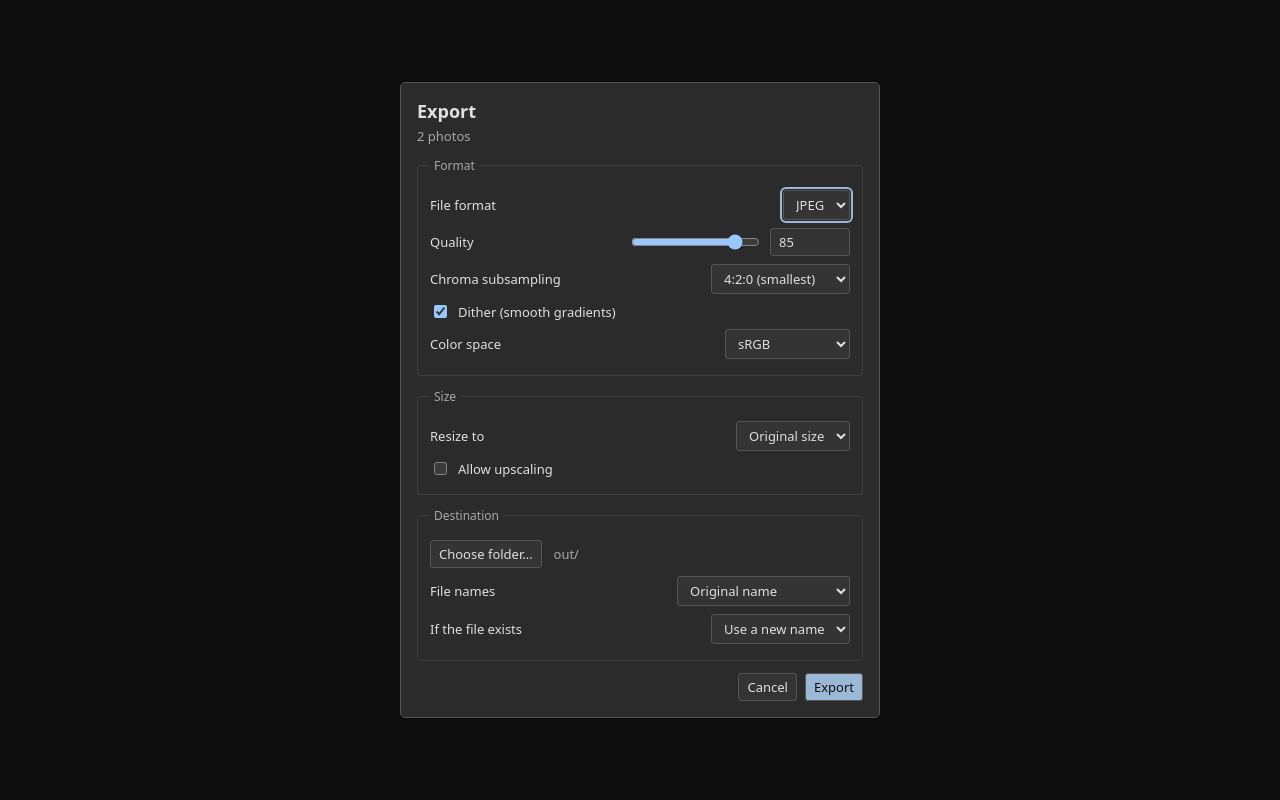
Test case: ExportDialog › disables Export for a bad quality
The width and height of the screenshot is (1280, 800).
Expected: the button "Export" is enabled, [805,673,863,701]
Replace the text in the number field named "Quality" with "150" at (810, 242), box [770,228,850,256]
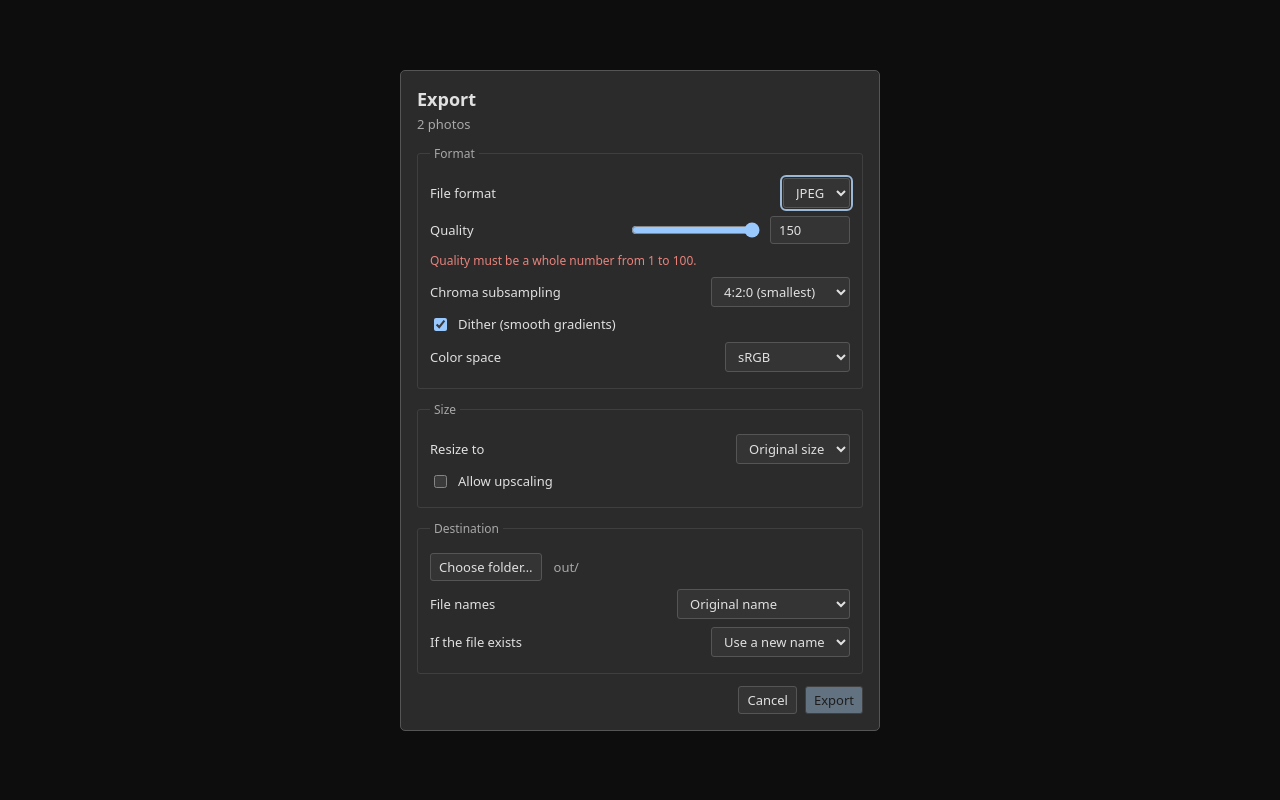
Expected: the button "Export" is disabled, [805,686,863,714]
